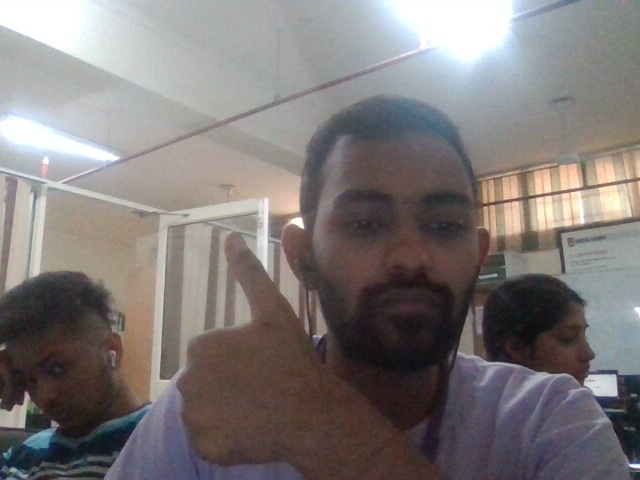Yes: (175, 231, 325, 468)
